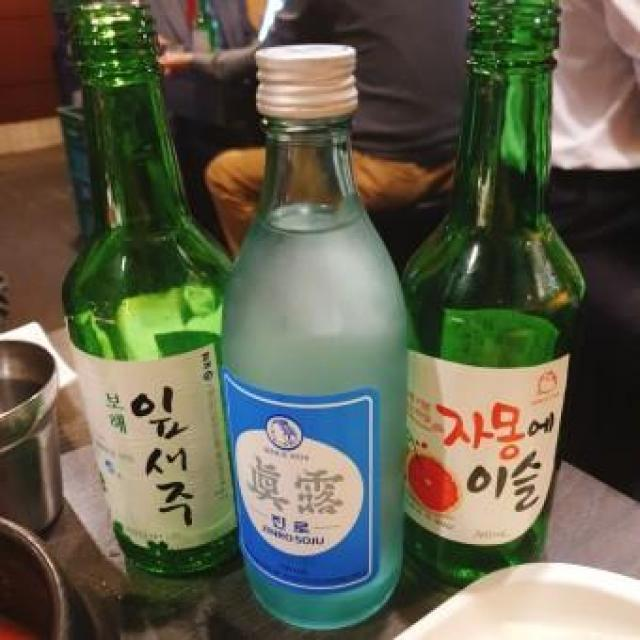soju-bottle: (218, 43, 410, 631), (397, 2, 584, 590), (60, 2, 243, 580)
